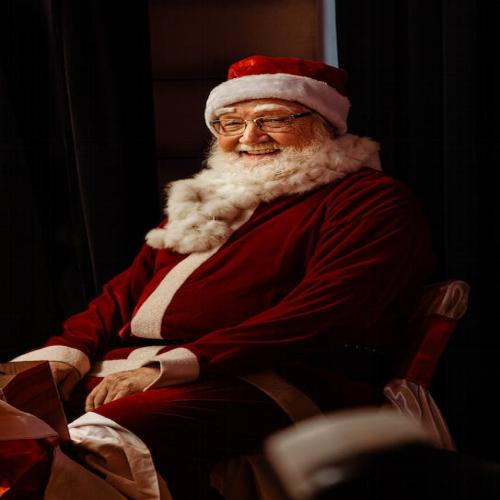Santa: (12, 54, 406, 500)
